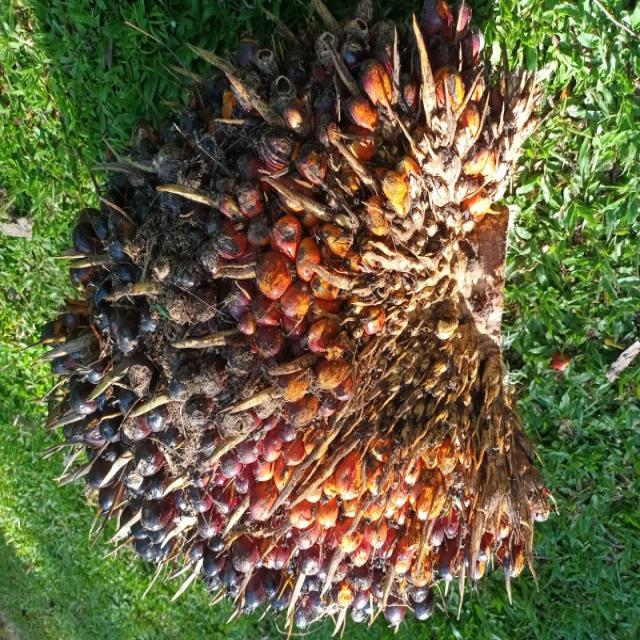fraksi 1: (97, 15, 590, 640)
